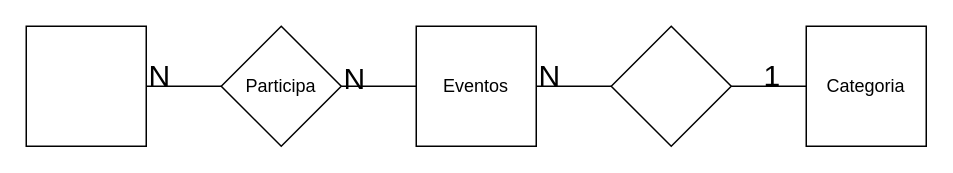
This 953x173 diagram has some shape labels left out. Each missing label, with the box of its shape:
Contém: (610, 25, 731, 146)
Usuarios: (25, 25, 146, 146)
